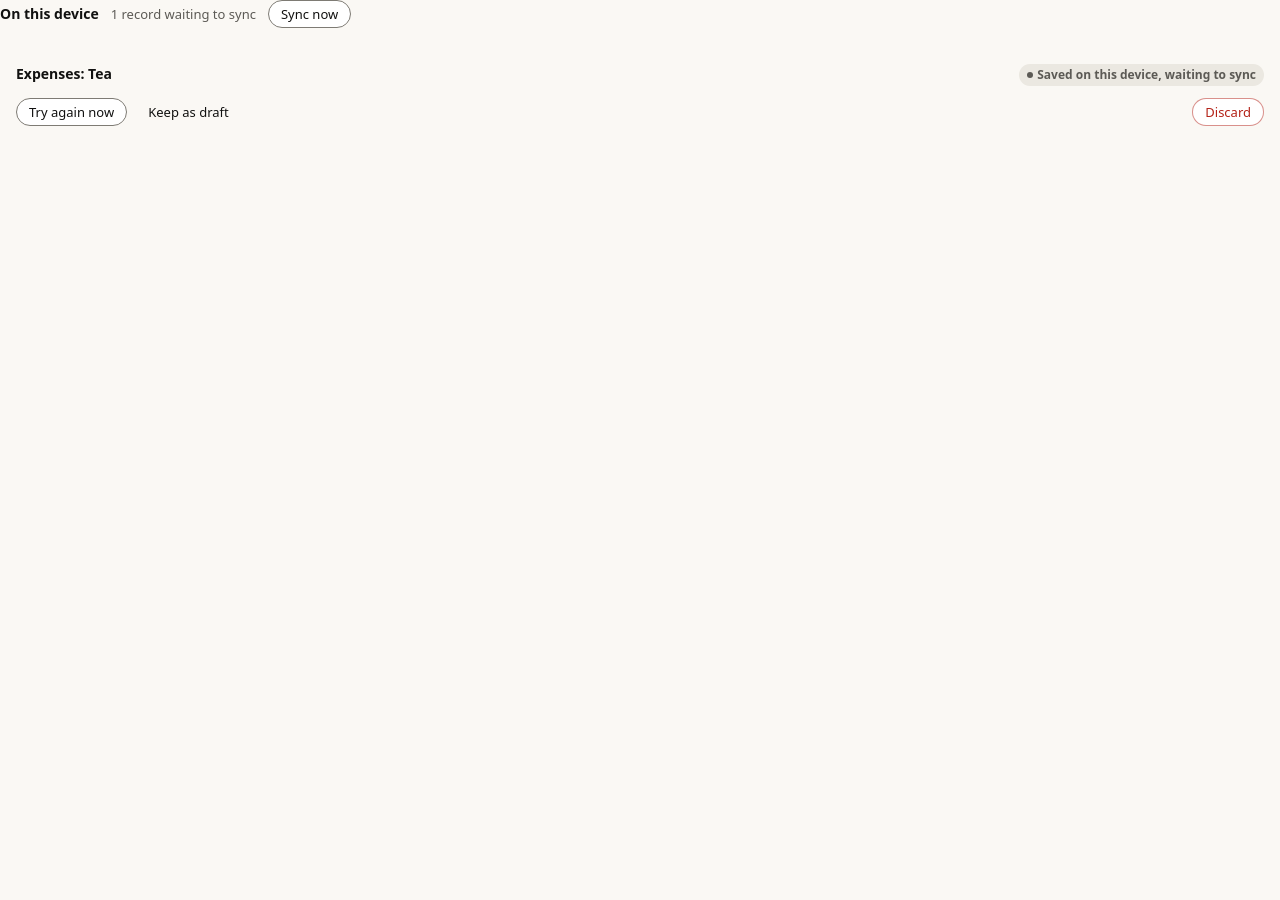
Test: a discard of a record the server already has says it is on its way
This screenshot has width=1280, height=900.
Expected: the text "Saved on this device, waiting to sync" is shown, x1=1019 y1=64 x2=1264 y2=86
Click the button "Discard" at (1228, 112), box x1=1192 y1=98 x2=1264 y2=126
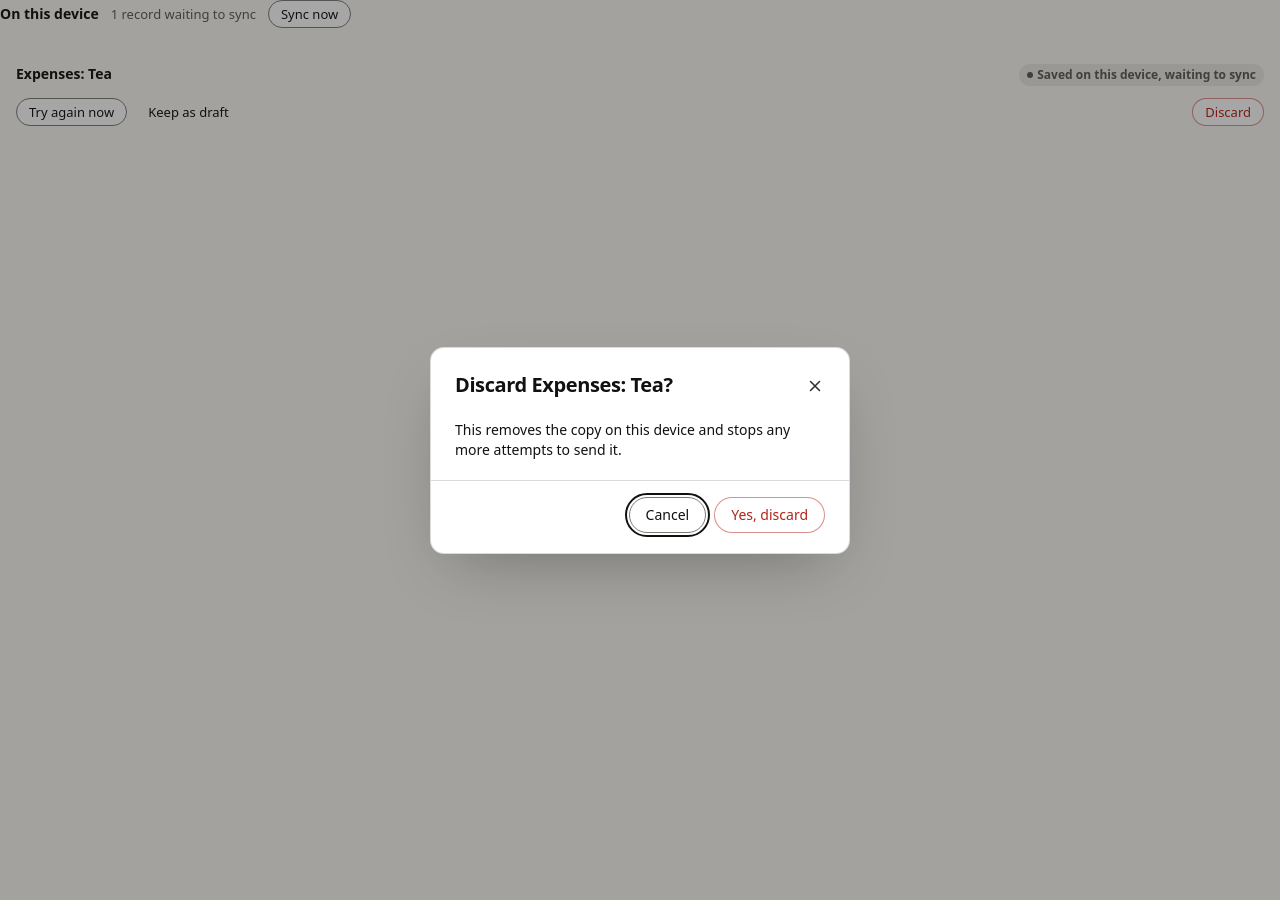
Click the button "Yes, discard" at (770, 514), box x1=714 y1=496 x2=825 y2=532
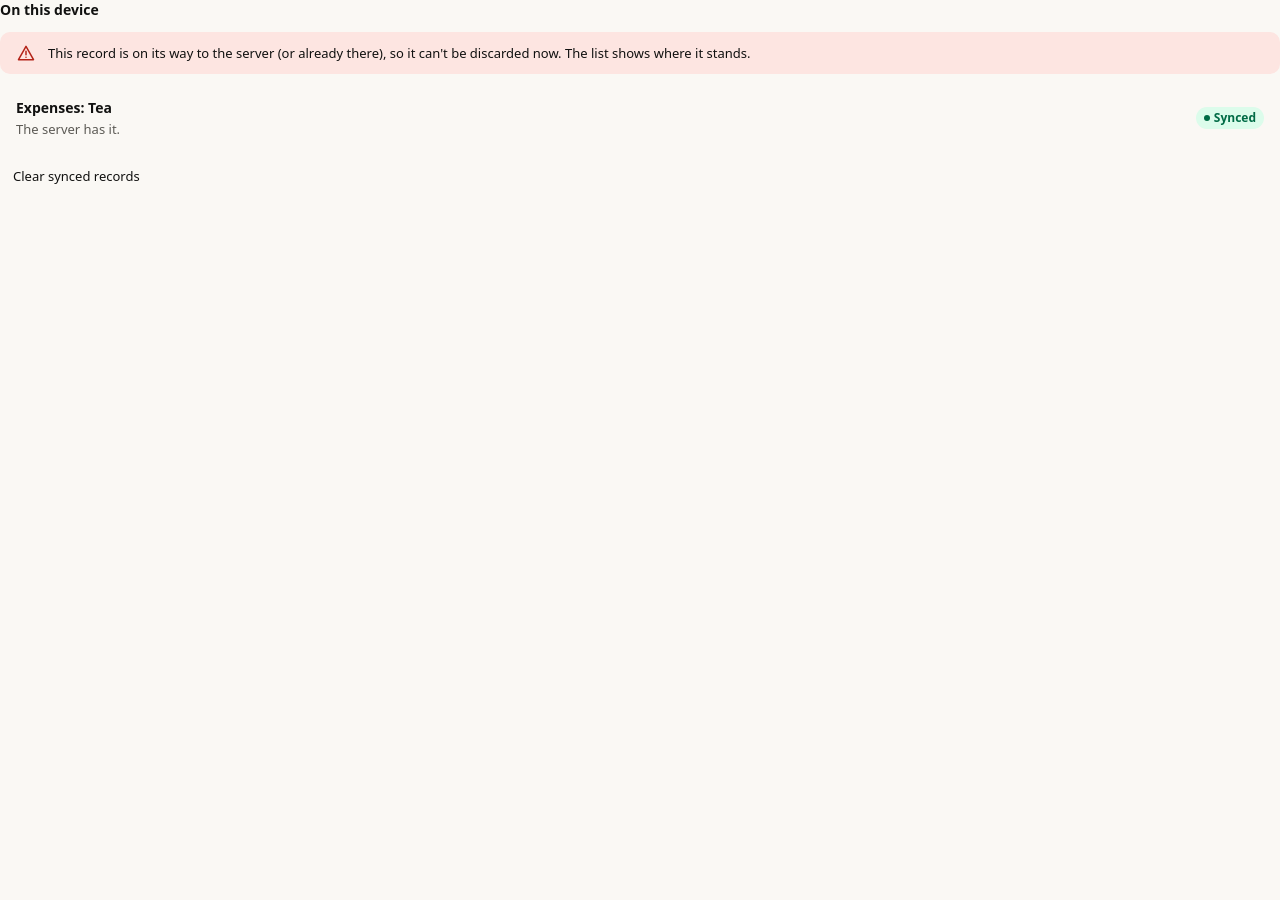
Expected: the text "on its way to the server" is shown, x1=48 y1=44 x2=750 y2=62
